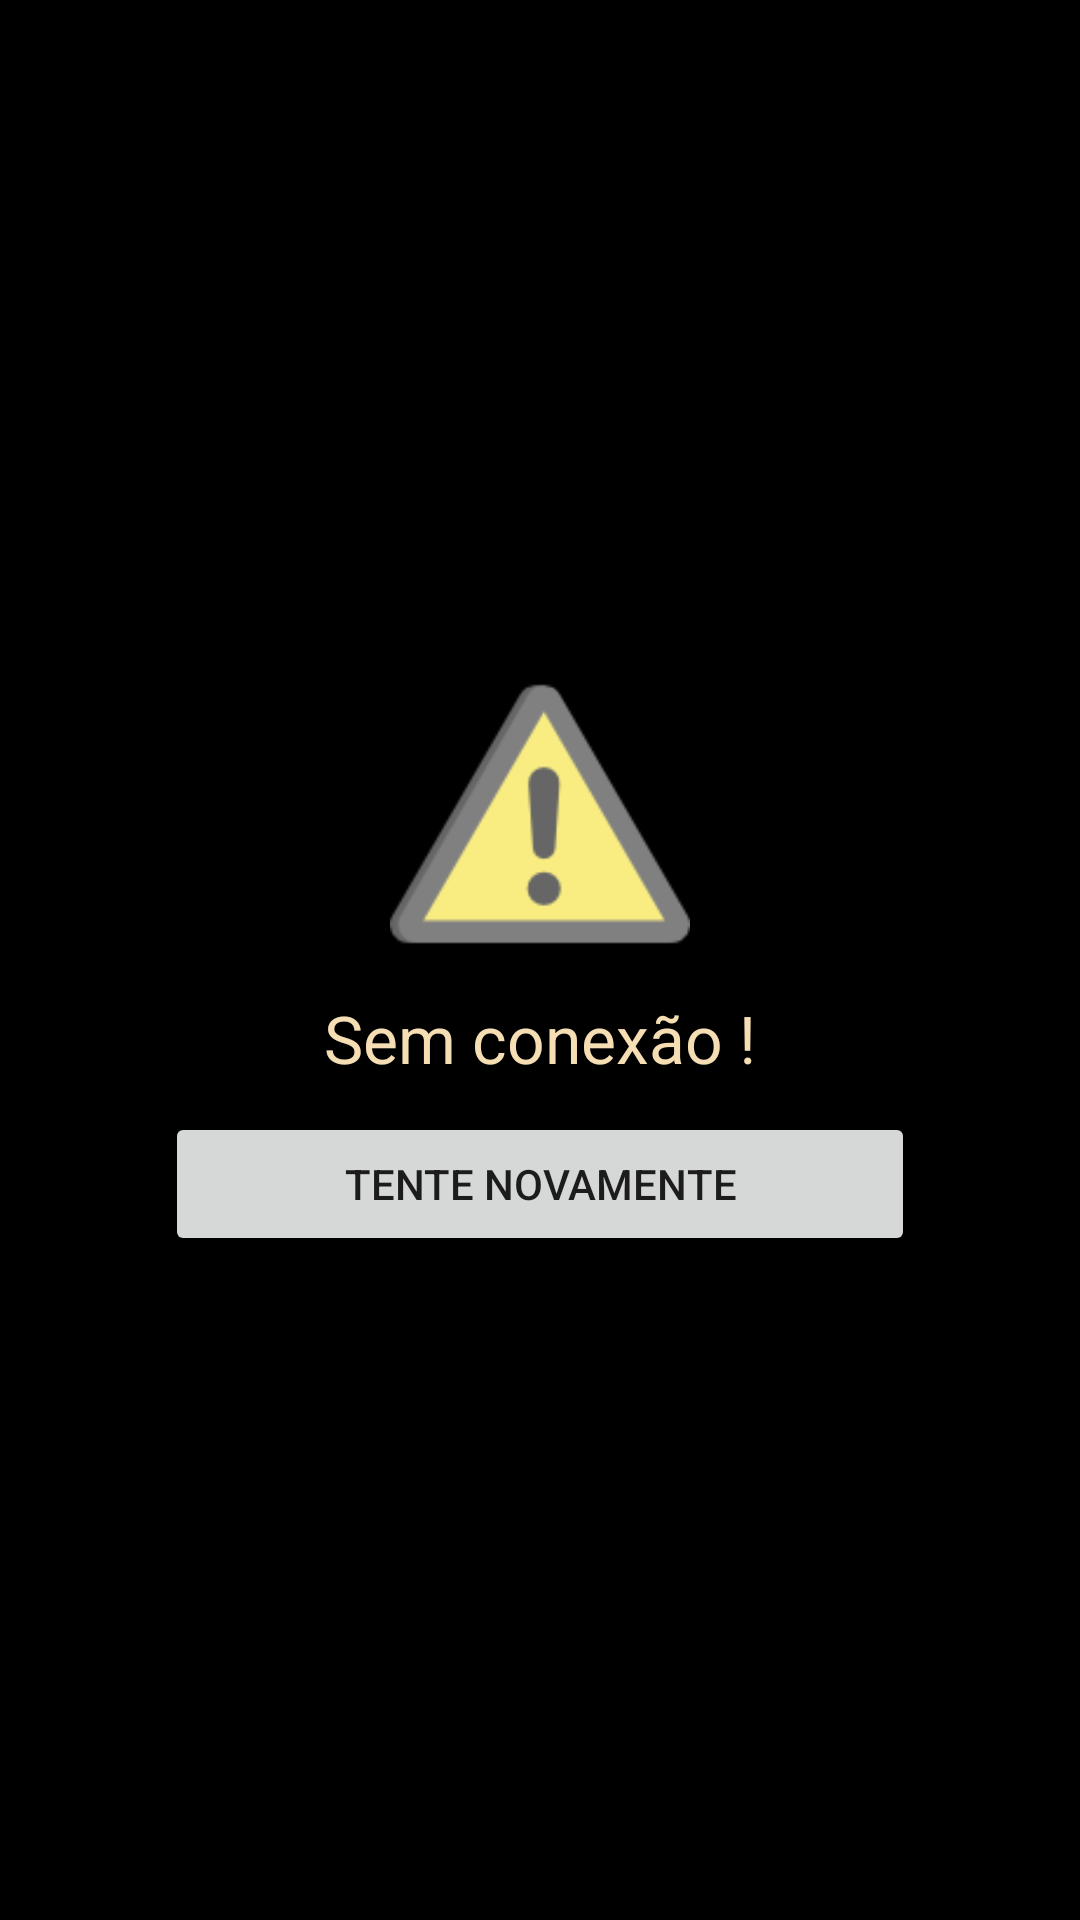

Screen size 1080px x 1920px. Icon name, then its box in pixels as (x1, y1, x2, y2):
warning: (390, 684, 690, 944)
